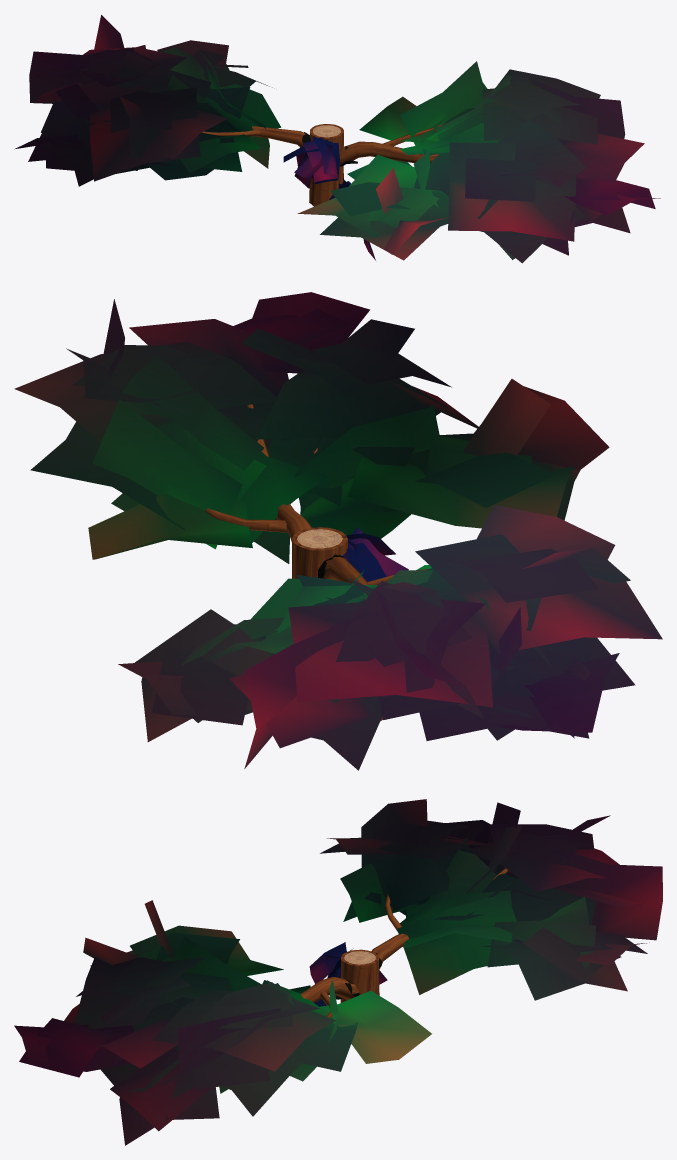
Rendered from obj_harvests_trees_pine01_p09.fbx.
The picture shows the model from 3 angles, top to bottom: view 1: azimuth 30°, elevation 25°; view 2: azimuth 150°, elevation 25°; view 3: azimuth 270°, elevation 25°; orthographic projection. The views are drawn at different scales.
Visible parts, largest first — view 1: obj_harvests_trees_pine01_p09; view 2: obj_harvests_trees_pine01_p09; view 3: obj_harvests_trees_pine01_p09.
Boxes of the visible parts, box(x1,y1,x2,y2) form: obj_harvests_trees_pine01_p09: box(14, 15, 660, 263); obj_harvests_trees_pine01_p09: box(14, 292, 662, 770); obj_harvests_trees_pine01_p09: box(14, 799, 662, 1145).
Size of the model in its own units: 56.5 by 18.42 by 60.57.
